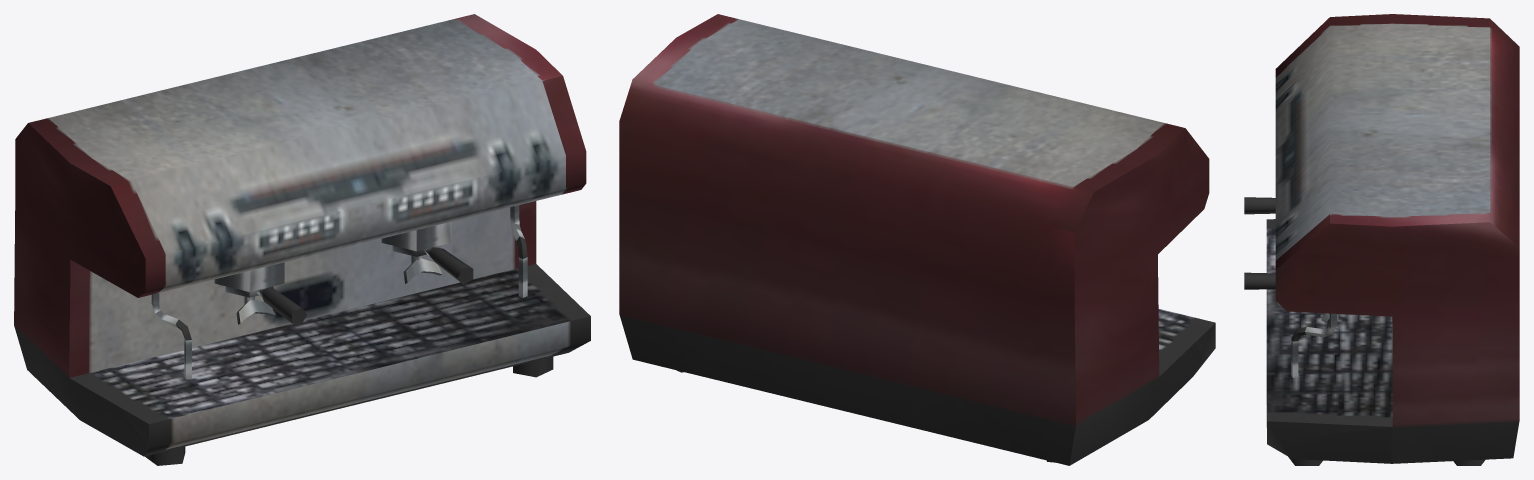
File: semi-automatic_machine.dae
The picture shows the model from 3 angles, left to right: view 1: azimuth 30°, elevation 25°; view 2: azimuth 150°, elevation 25°; view 3: azimuth 270°, elevation 25°; orthographic projection. The views are drawn at different scales.
Visible parts, largest first — view 1: semi-automatic_machine; view 2: semi-automatic_machine; view 3: semi-automatic_machine.
Boxes of the visible parts, left/top/right/bottom form: semi-automatic_machine: left=14, top=14, right=590, bottom=465; semi-automatic_machine: left=619, top=14, right=1215, bottom=465; semi-automatic_machine: left=1244, top=14, right=1519, bottom=465.
Size of the model in its own units: 1.08 by 0.5879 by 0.6022.
1 material, 1 textured.
